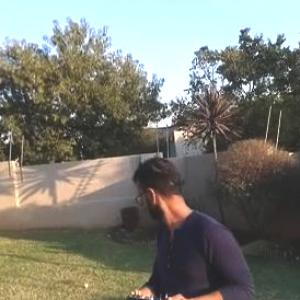follow: (124, 150, 260, 299)
